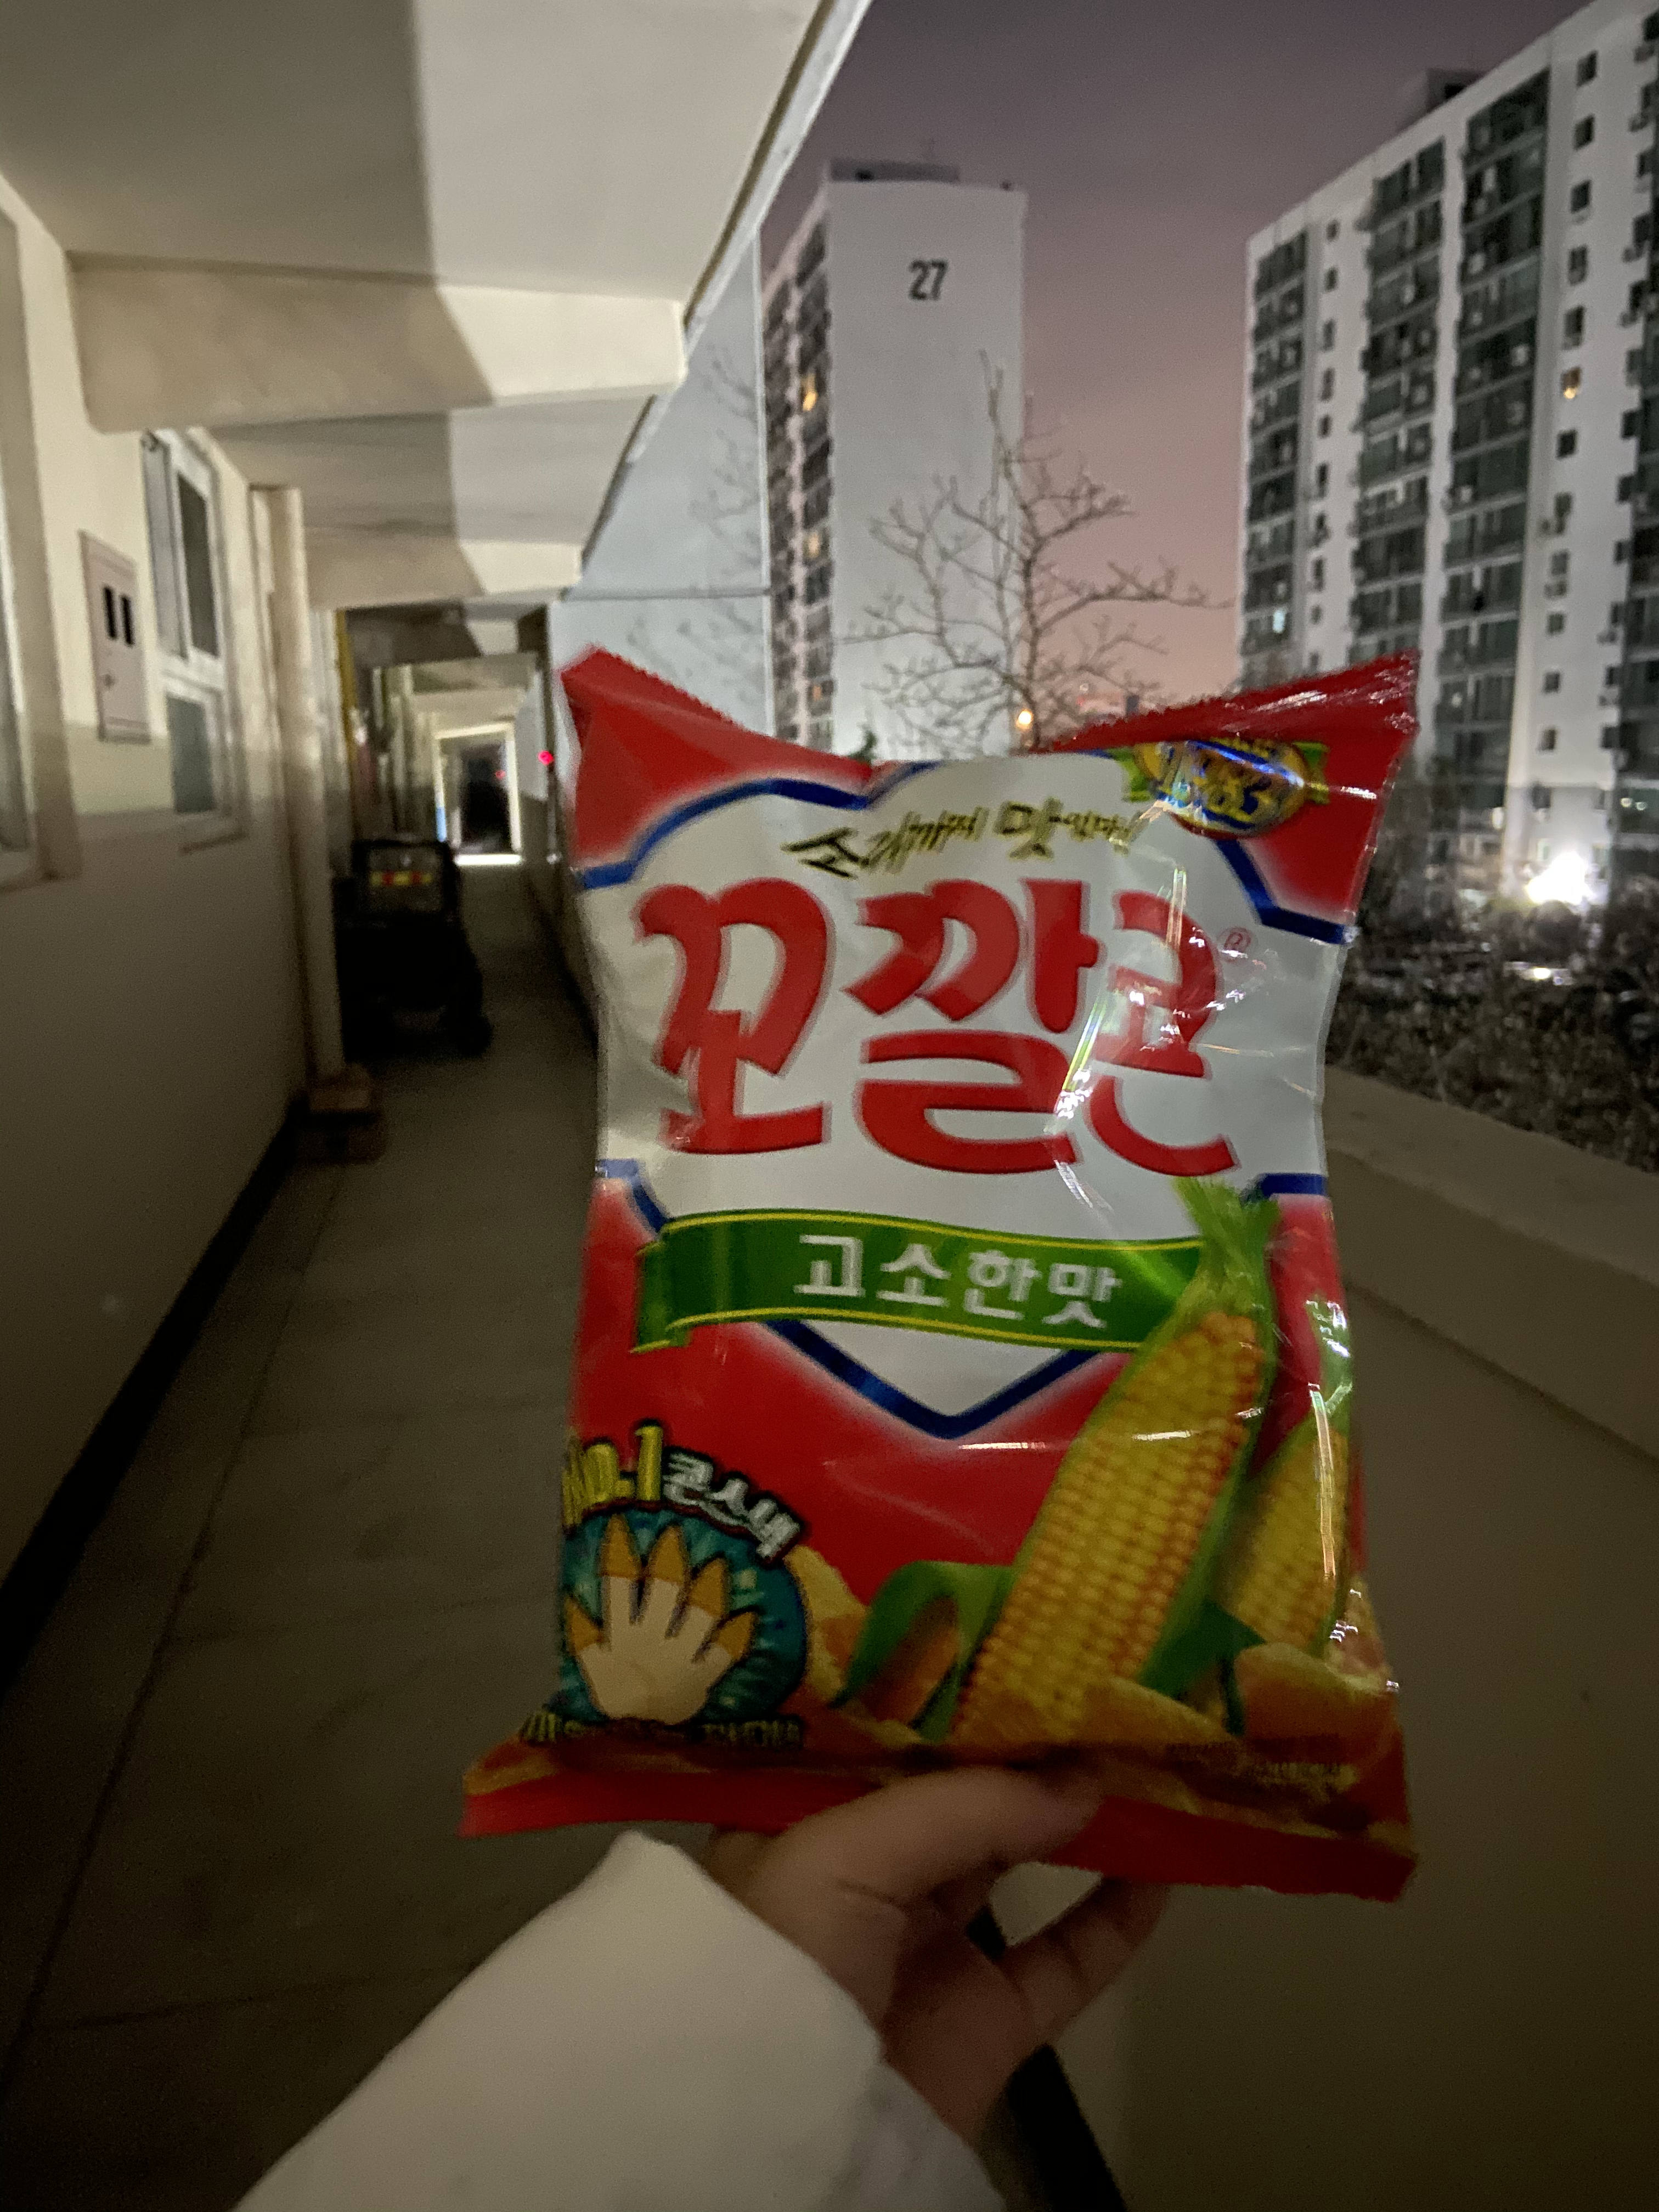ggoggalcon: (415, 625, 1467, 1930)
